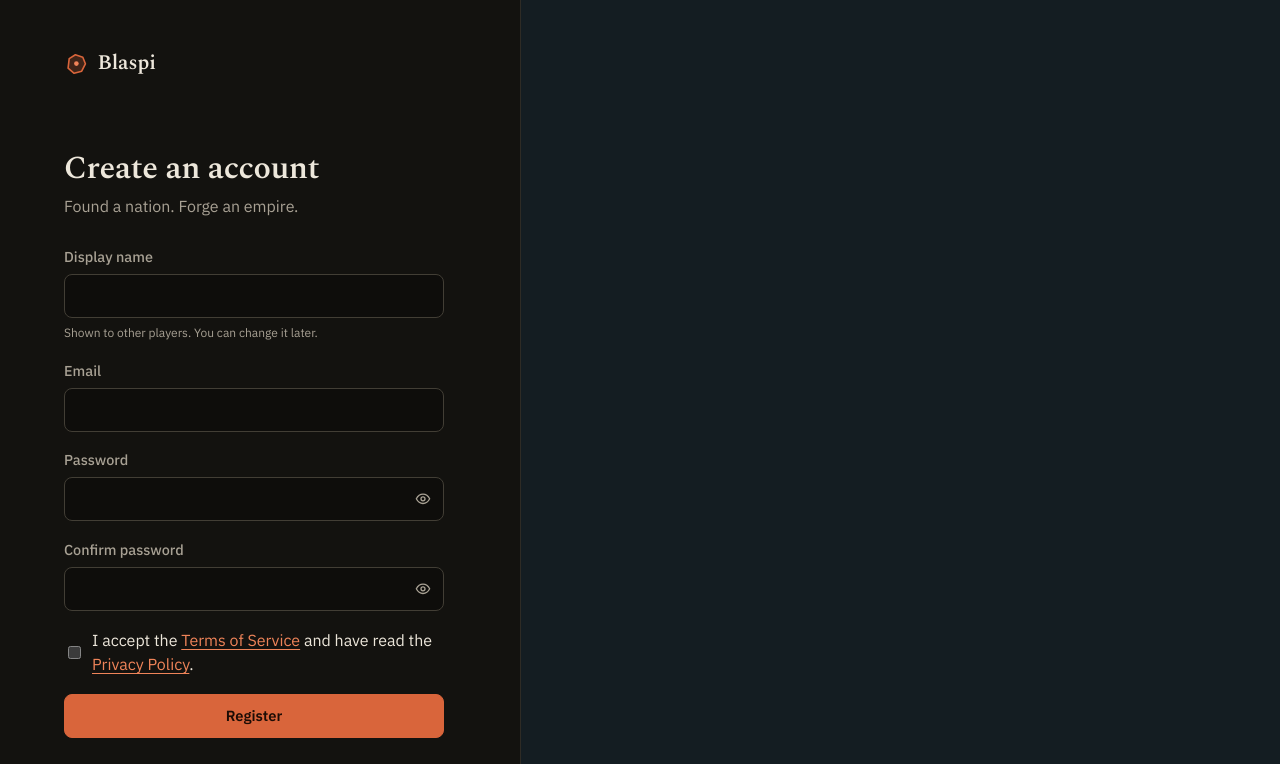
Test: RegisterPage › requires consent to the Terms of Service and links the legal drafts
Type "Queen of Varn" into the field labelled "Display name" at {"x": 254, "y": 296}, box [64, 274, 444, 318]
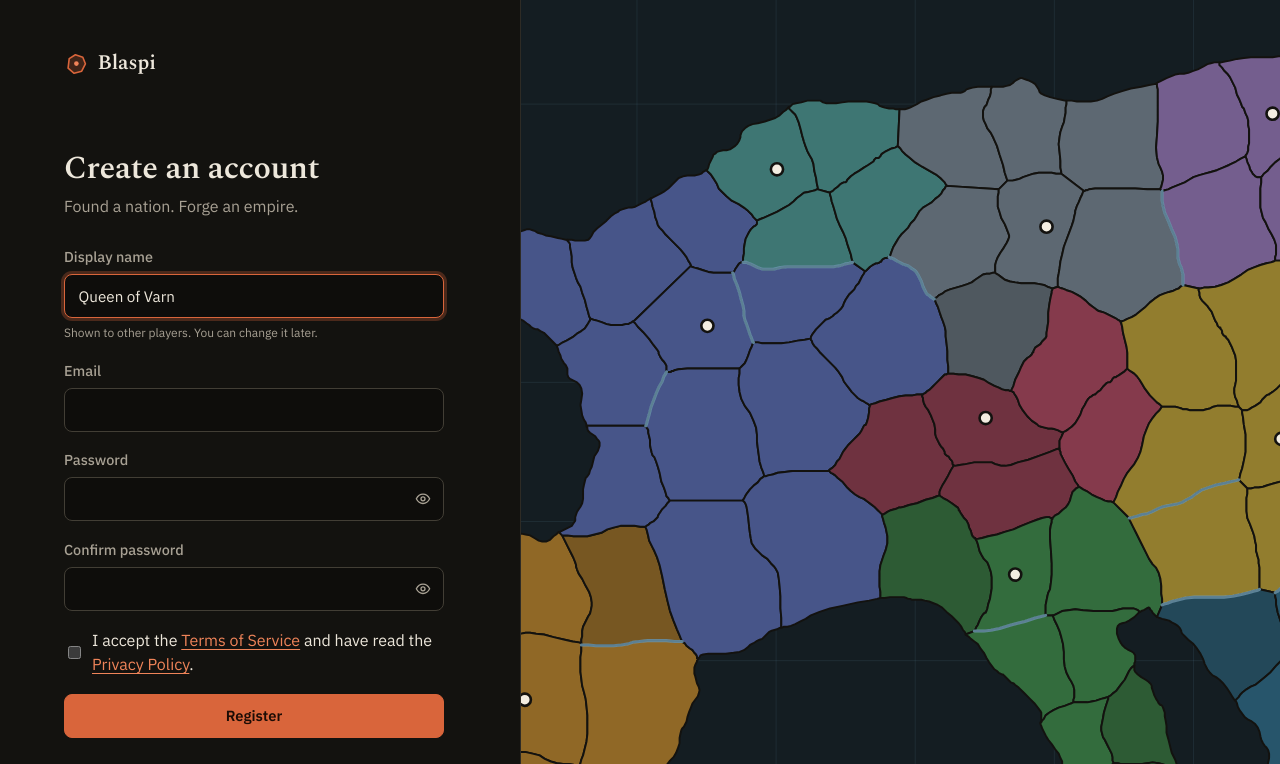
Type "queen@reach.test" into the field labelled "Email" at {"x": 254, "y": 410}, box [64, 388, 444, 432]
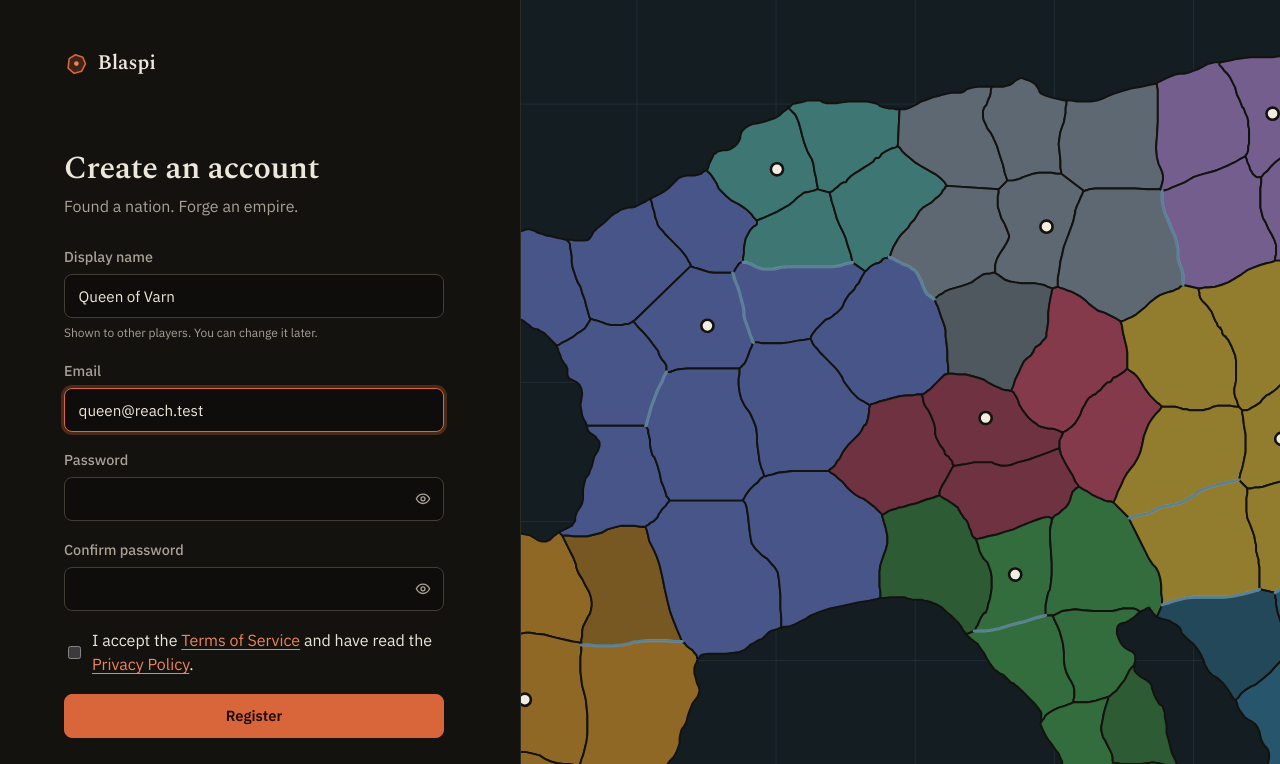
Type "long-enough-1" into the password field labelled "Password" at {"x": 254, "y": 499}, box [64, 477, 444, 521]
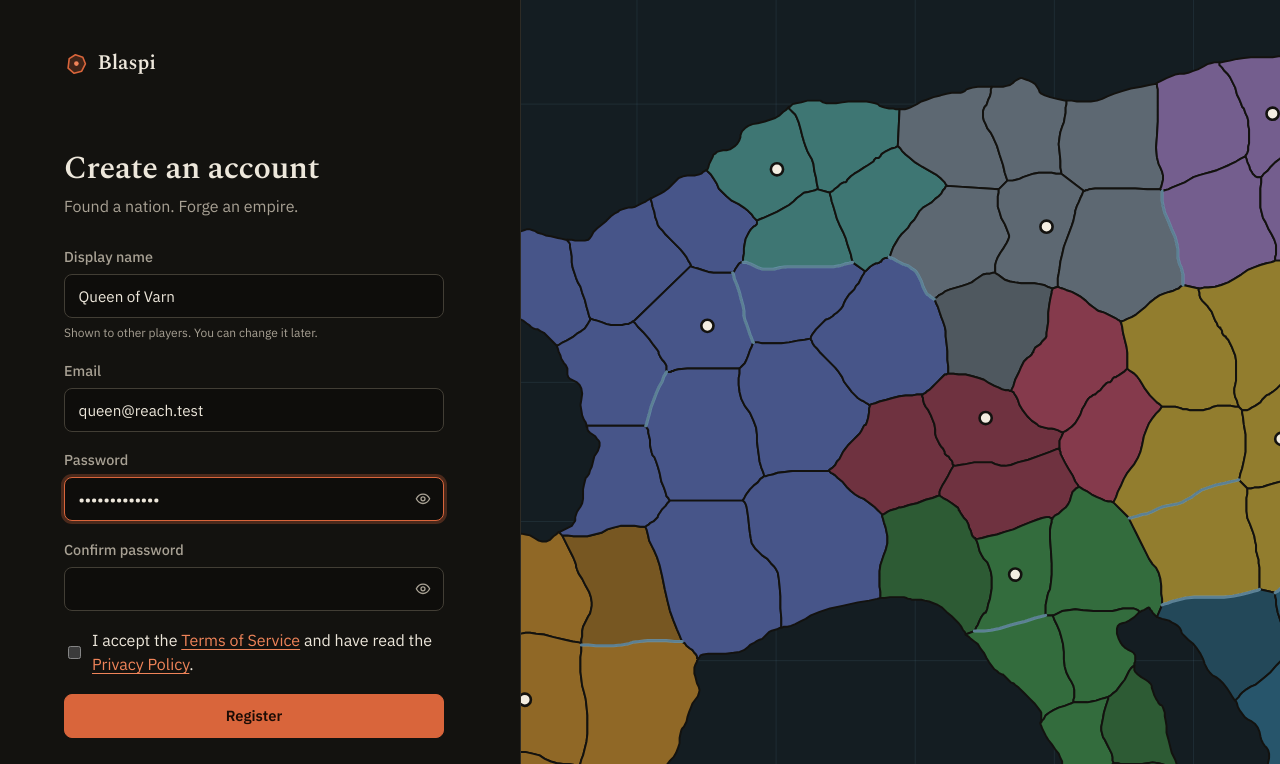
Type "long-enough-1" into the password field labelled "Confirm password" at {"x": 254, "y": 589}, box [64, 567, 444, 611]
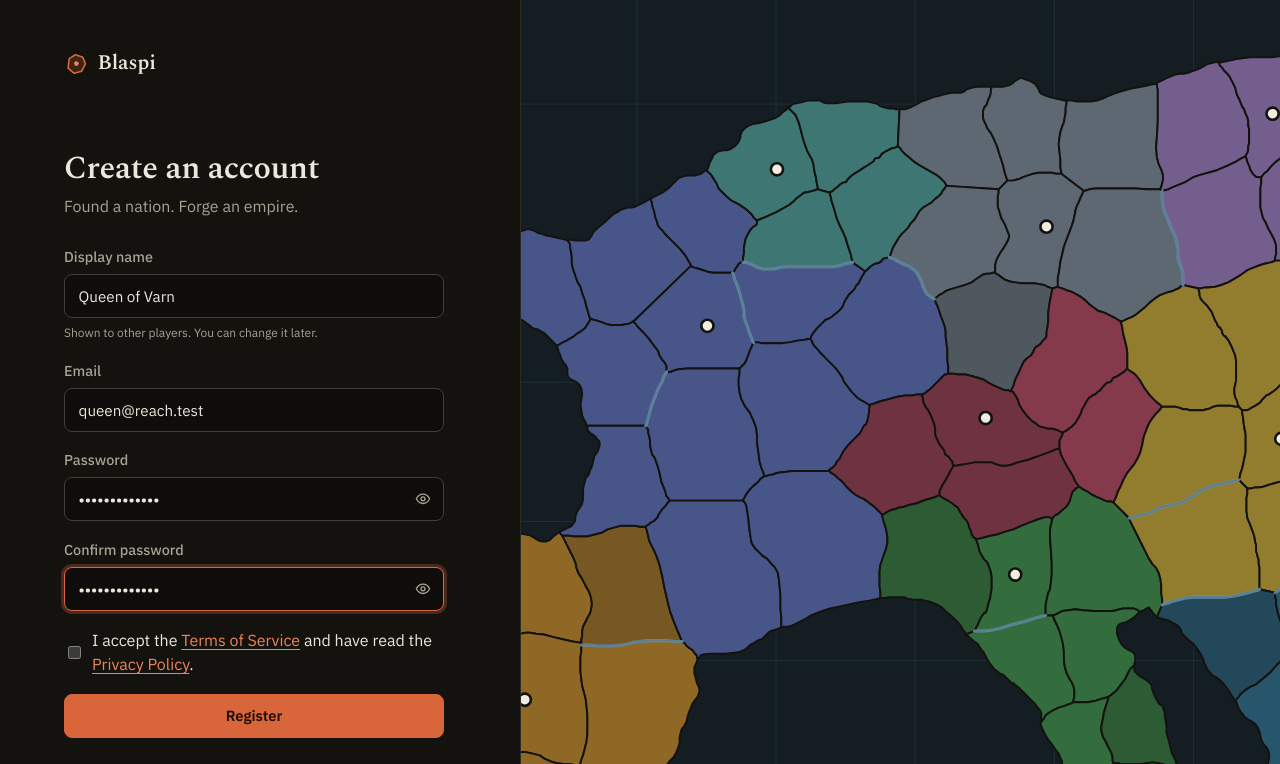
Click the button "Register" at {"x": 254, "y": 716}, box [64, 694, 444, 738]
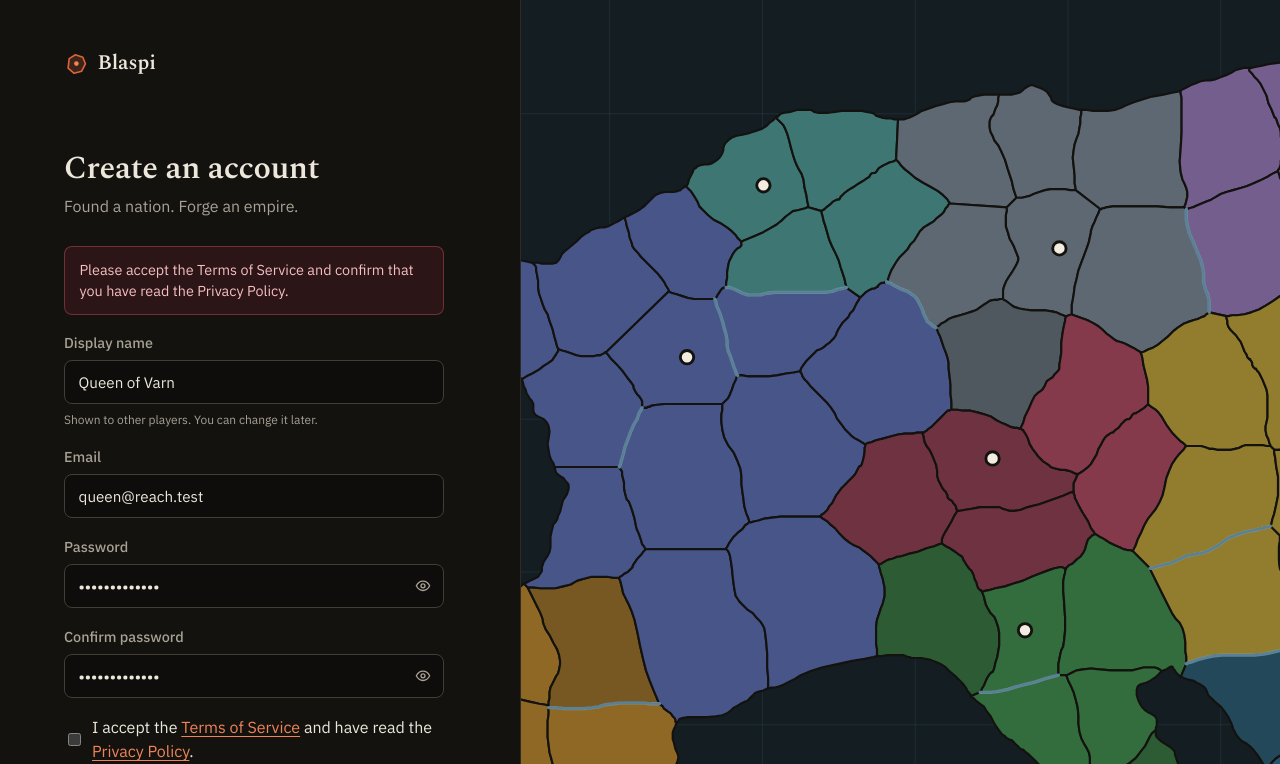
Expected: the message shows "Please accept the Terms of Service", [79, 260, 414, 300]
